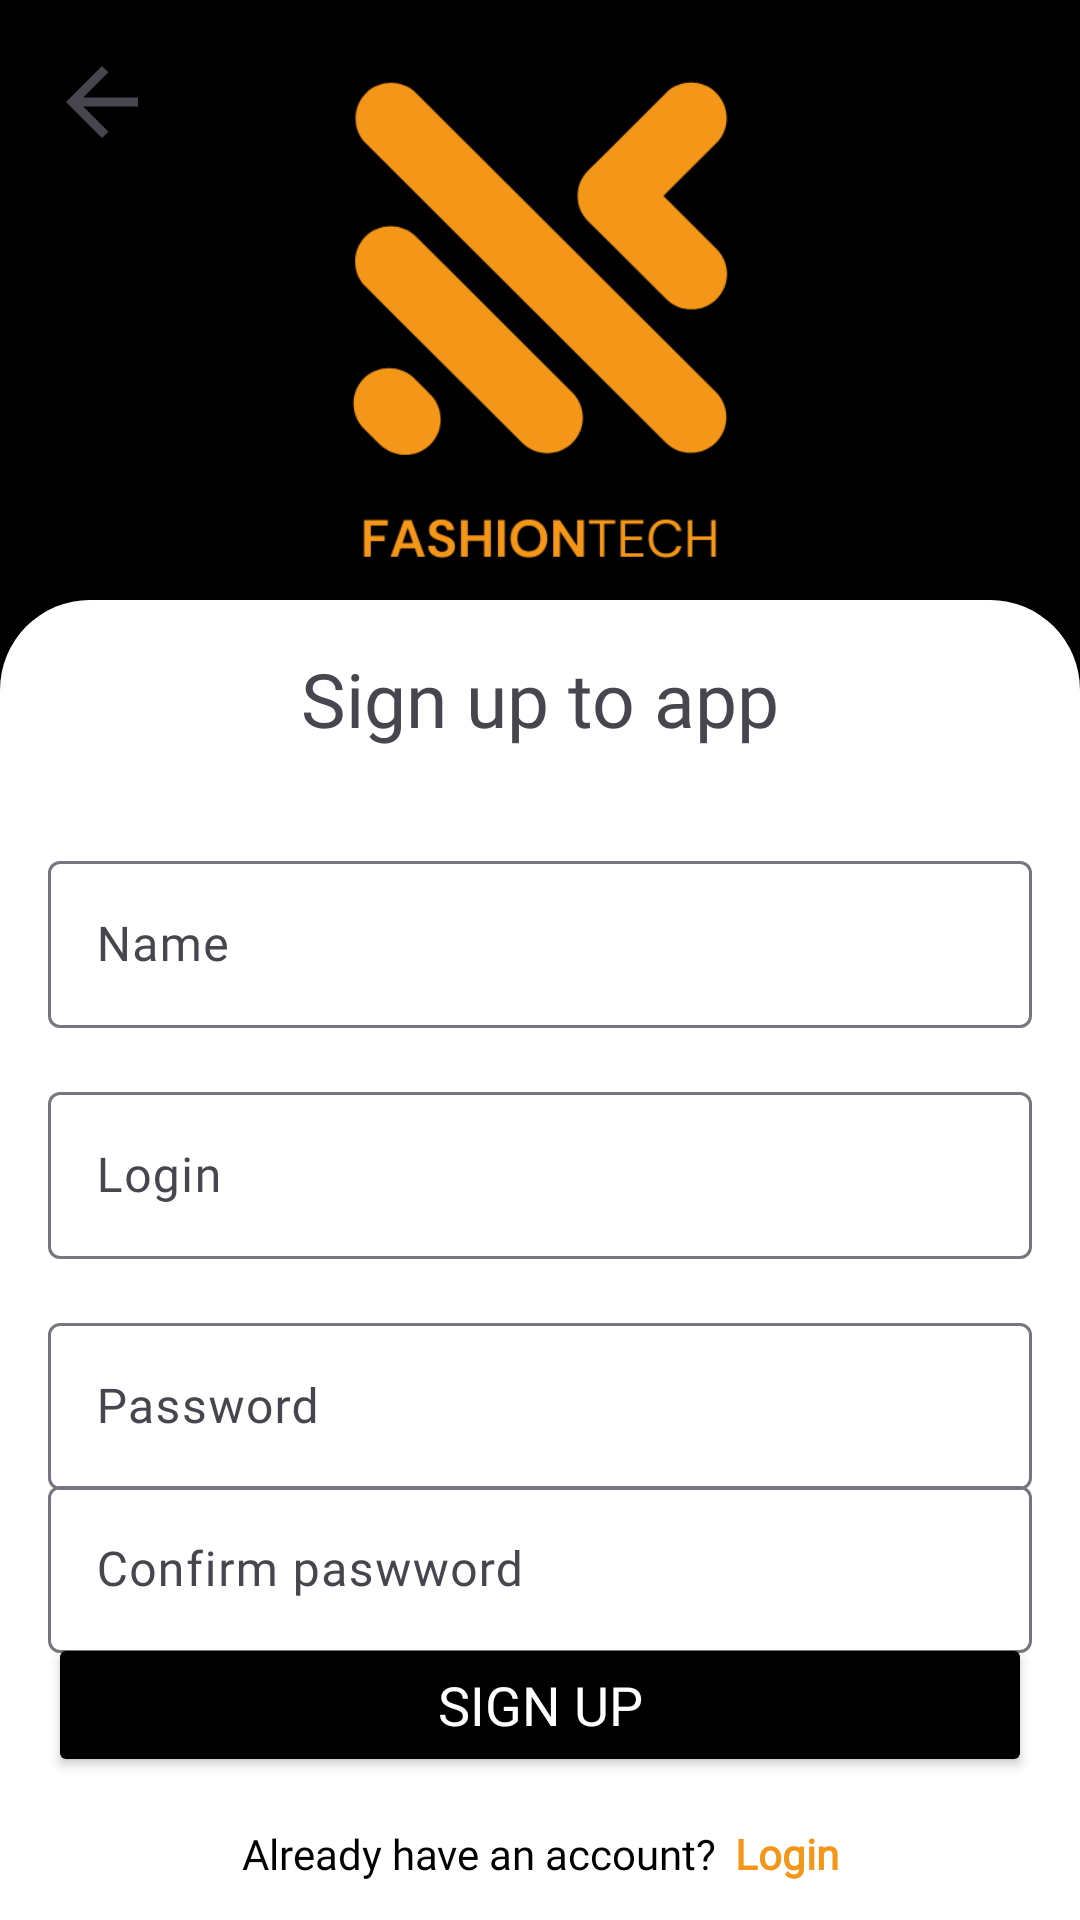

Point at icon controls on the screen. Image size 1080px x 1920px, points as point (x, y).
back: point (102, 102)
